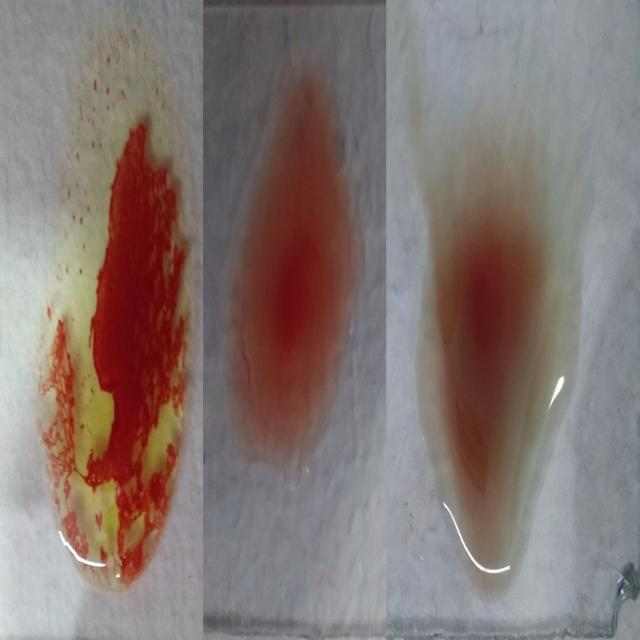B: (37, 28, 199, 608)
